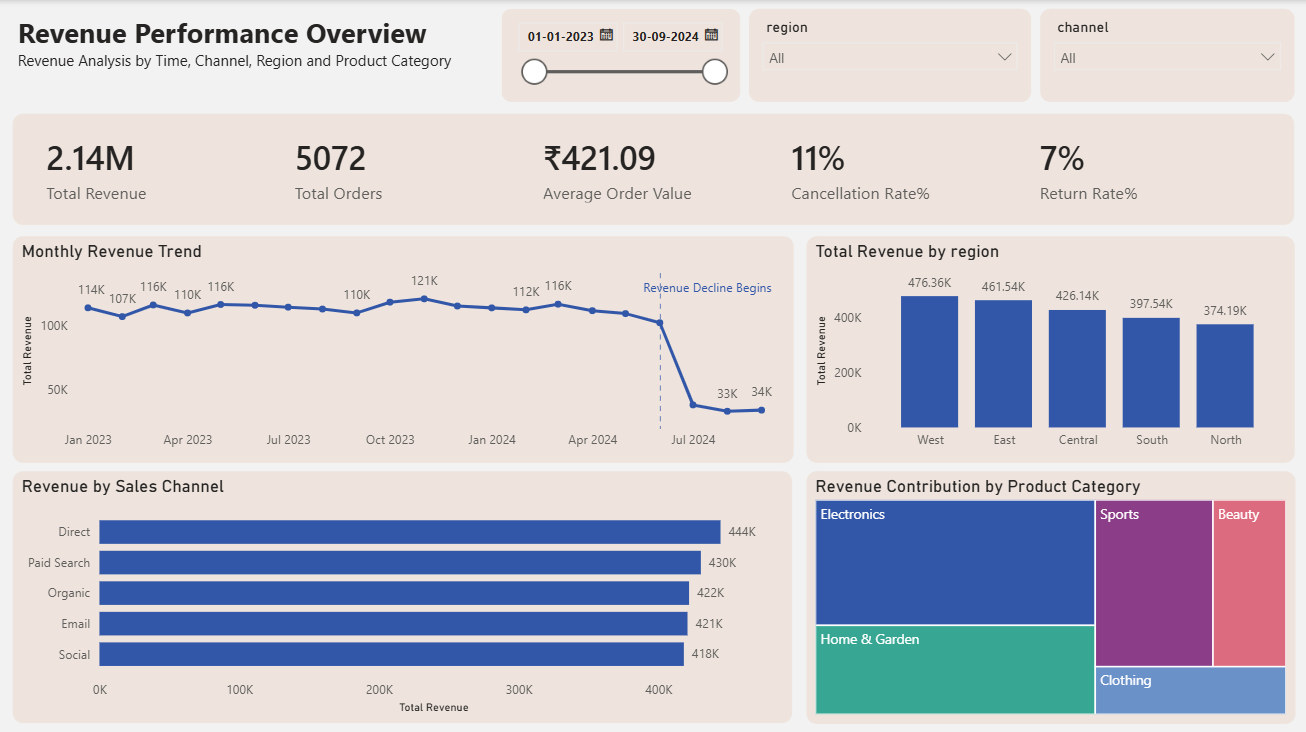

This screenshot's page, from the dashboard's own definition file:
{"tool":"powerbi","page":{"name":"EXECUTIVE REVENUE OVERVIEW","canvas":[1280,720],"ordinal":0},"visuals":[{"type":"cardVisual","fields":{"Data":["cleaned_orders.Total Revenue","cleaned_orders.Total Orders","cleaned_orders.Average Order Value","cleaned_orders.Cancellation Rate","cleaned_returns.Return Rate"]},"box":[13.8,111.2,1253.8,108.8],"z":0},{"type":"lineChart","title":"Monthly Revenue Trend","fields":{"Y":["cleaned_orders.Total Revenue"],"Category":["DateTable.Date.Variation.Date Hierarchy.Year","DateTable.Date.Variation.Date Hierarchy.Month"]},"box":[13.8,231.2,763.8,221.2],"z":1000},{"type":"clusteredColumnChart","fields":{"Category":["cleaned_customers.region"],"Y":["cleaned_orders.Total Revenue"]},"box":[790,231.2,477.5,221.2],"z":2000},{"type":"clusteredBarChart","title":"Revenue by Sales Channel","fields":{"Category":["cleaned_orders.channel"],"Y":["cleaned_orders.Total Revenue"]},"box":[13.8,461.2,762.5,246.2],"z":3000},{"type":"treemap","title":"Revenue Contribution by Product Category","fields":{"Group":["cleaned_order_items.category"],"Values":["Sum(cleaned_order_items.line_total)"]},"box":[789.9,461,478.1,247],"z":4000},{"type":"textbox","box":[13.5,8.6,447.6,91.7],"z":5000},{"type":"slicer","fields":{"Values":["DateTable.Date"]},"box":[491.2,8.8,233.8,91.2],"z":6000},{"type":"slicer","fields":{"Values":["cleaned_customers.region"]},"box":[733.8,8.8,276.2,91.2],"z":7000},{"type":"slicer","fields":{"Values":["cleaned_orders.channel"]},"box":[1018.8,8.8,248.8,91.2],"z":8000}]}

Visuals, with their boxes in screenshot pixels (x1, y1, x2, y2), scaled from the page's 1280x720 canvas onto the 1306x732 screenshot:
cardVisual - cleaned_orders.Total Revenue x cleaned_orders.Total Orders: Rect(14, 113, 1293, 224)
"Monthly Revenue Trend" lineChart: Rect(14, 235, 793, 460)
clusteredColumnChart - cleaned_customers.region x cleaned_orders.Total Revenue: Rect(806, 235, 1293, 460)
"Revenue by Sales Channel" clusteredBarChart: Rect(14, 469, 792, 719)
"Revenue Contribution by Product Category" treemap: Rect(806, 469, 1294, 720)
textbox: Rect(14, 9, 470, 102)
slicer - DateTable.Date: Rect(501, 9, 740, 102)
slicer - cleaned_customers.region: Rect(749, 9, 1031, 102)
slicer - cleaned_orders.channel: Rect(1039, 9, 1293, 102)
